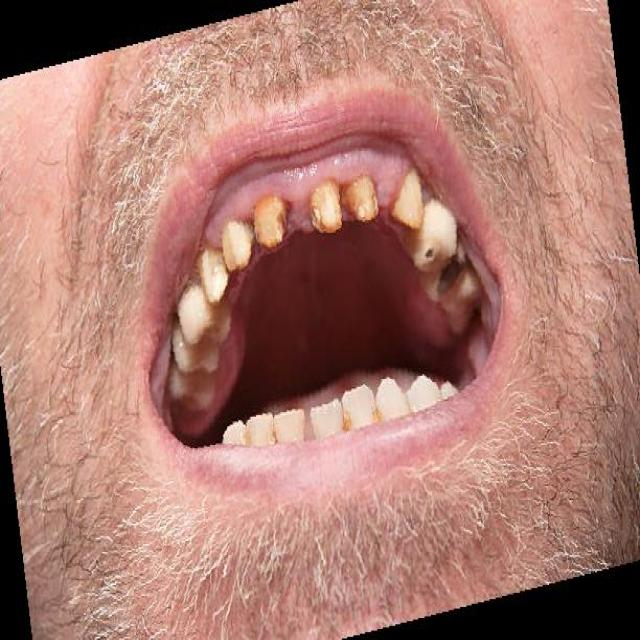caries: (442, 250, 471, 304), (420, 240, 438, 268)
